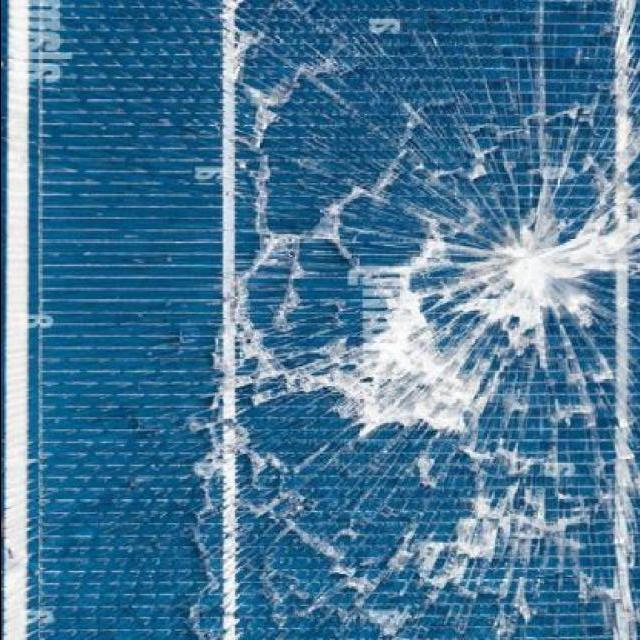cracked: (19, 0, 637, 639)
